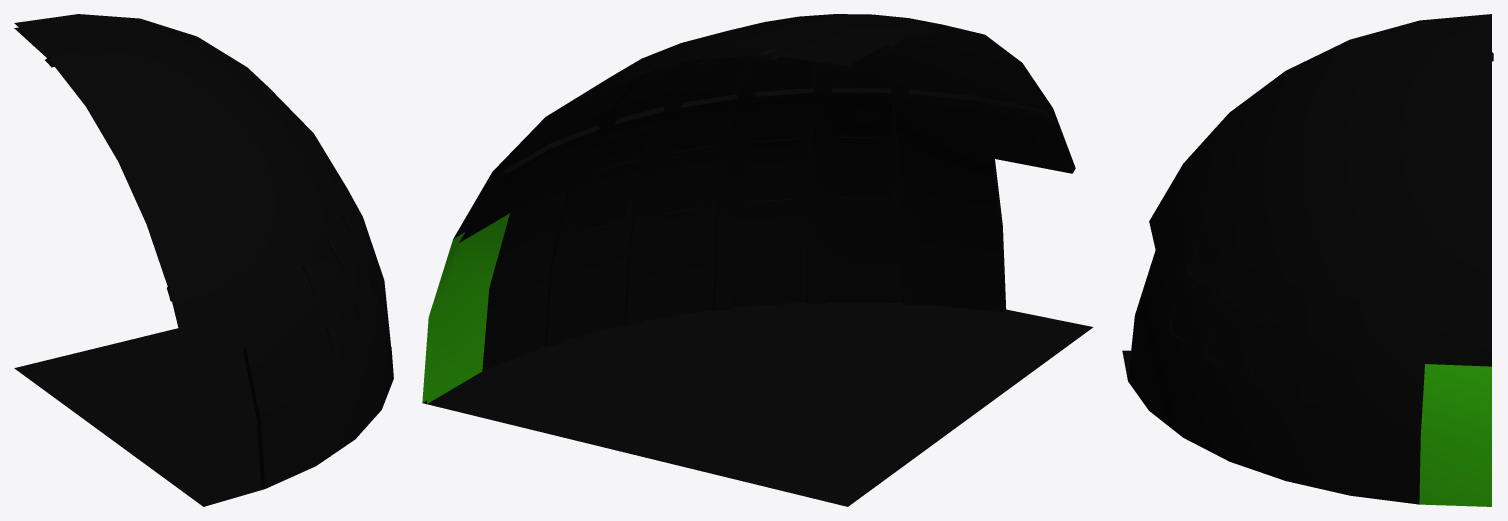
The model's file is Module_Serre_1porte_001.fbx.
The picture shows the model from 3 angles, left to right: view 1: azimuth 30°, elevation 25°; view 2: azimuth 150°, elevation 25°; view 3: azimuth 270°, elevation 25°; orthographic projection. The views are drawn at different scales.
Parts seen in each view (by area): view 1: Object073; view 2: Object073; view 3: Object073.
Boxes of the visible parts, x1,y1,x2,y2 form: Object073: (14,14,393,506); Object073: (422,14,1093,506); Object073: (1122,14,1493,506).
Bounding box in the file's own units: 803 × 808 × 803.
